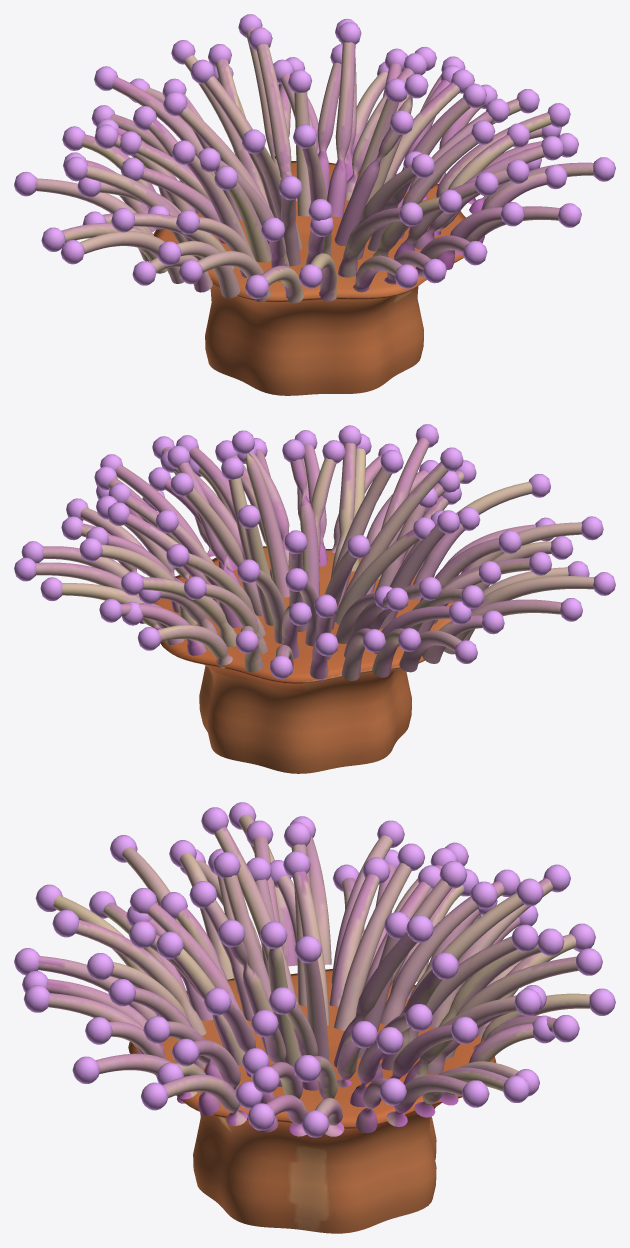
The model's file is d_anem.glb.
The picture shows the model from 3 angles, top to bottom: view 1: azimuth 30°, elevation 25°; view 2: azimuth 150°, elevation 25°; view 3: azimuth 270°, elevation 25°; orthographic projection. The views are drawn at different scales.
Parts seen in each view (by area): view 1: anem; view 2: anem; view 3: anem.
Boxes of the visible parts, box(x1,y1,x2,y2) form: anem: box(14, 14, 615, 395); anem: box(14, 424, 615, 773); anem: box(14, 802, 615, 1233).
Size of the model in its own units: 0.9404 by 0.4769 by 0.8217.
Materials: 1 (1 with a texture image).
